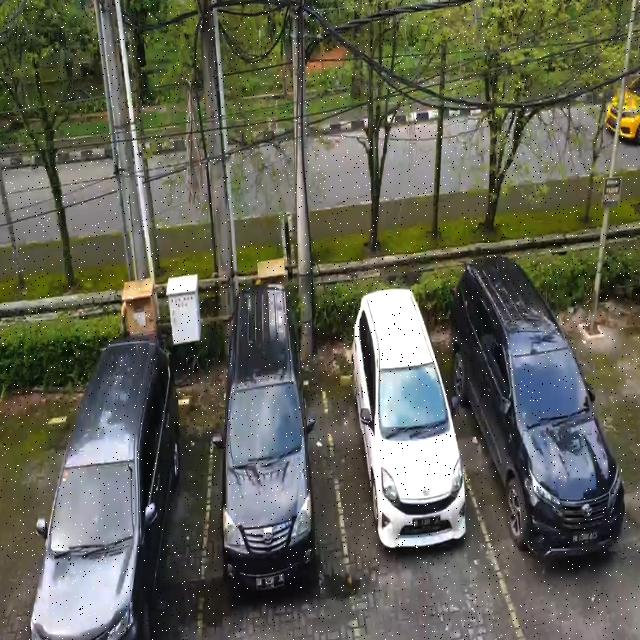occupied: (470, 319, 626, 589), (28, 406, 206, 640), (206, 355, 342, 633), (342, 340, 472, 620)
